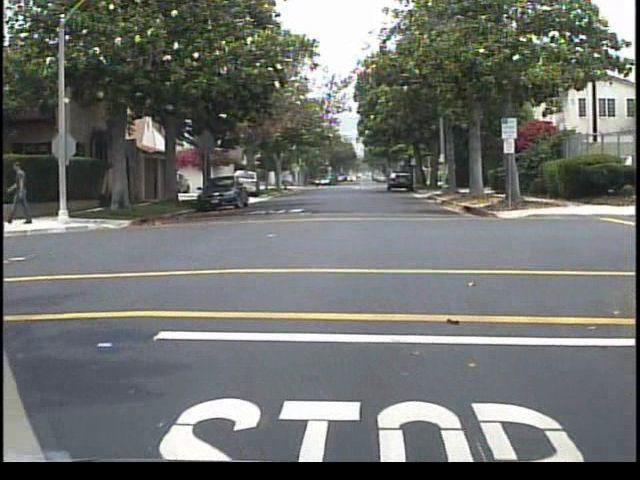person: (5, 154, 39, 228)
